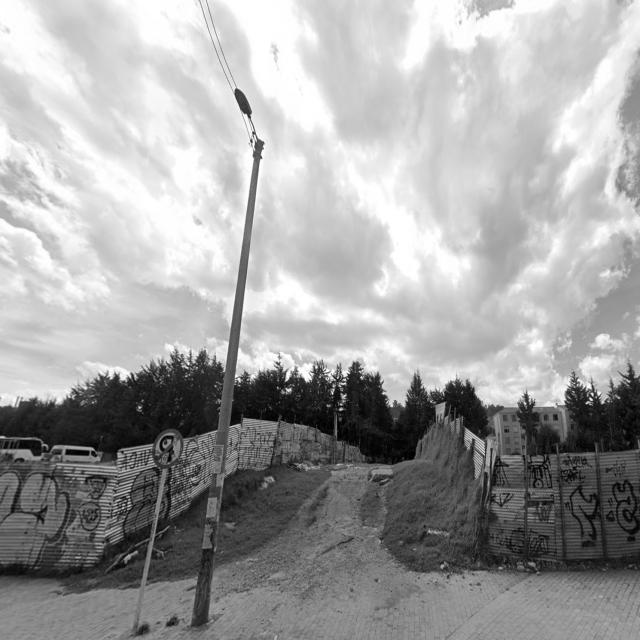Poste: (192, 137, 264, 626)
